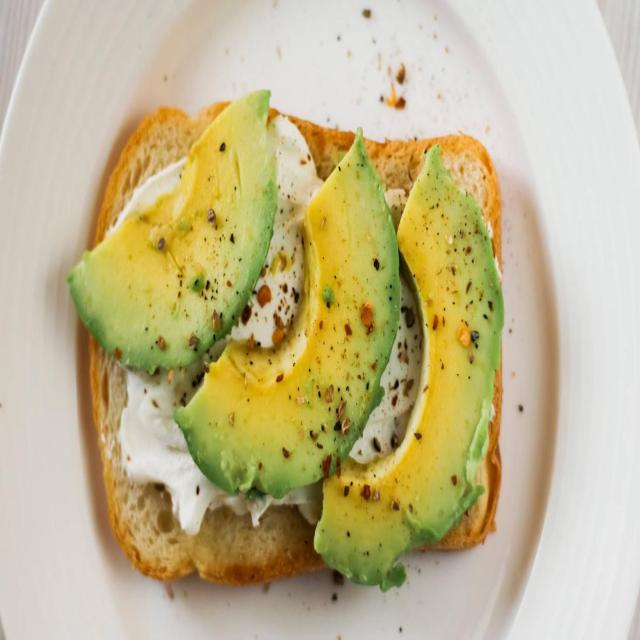aguacate: (65, 81, 279, 375)
